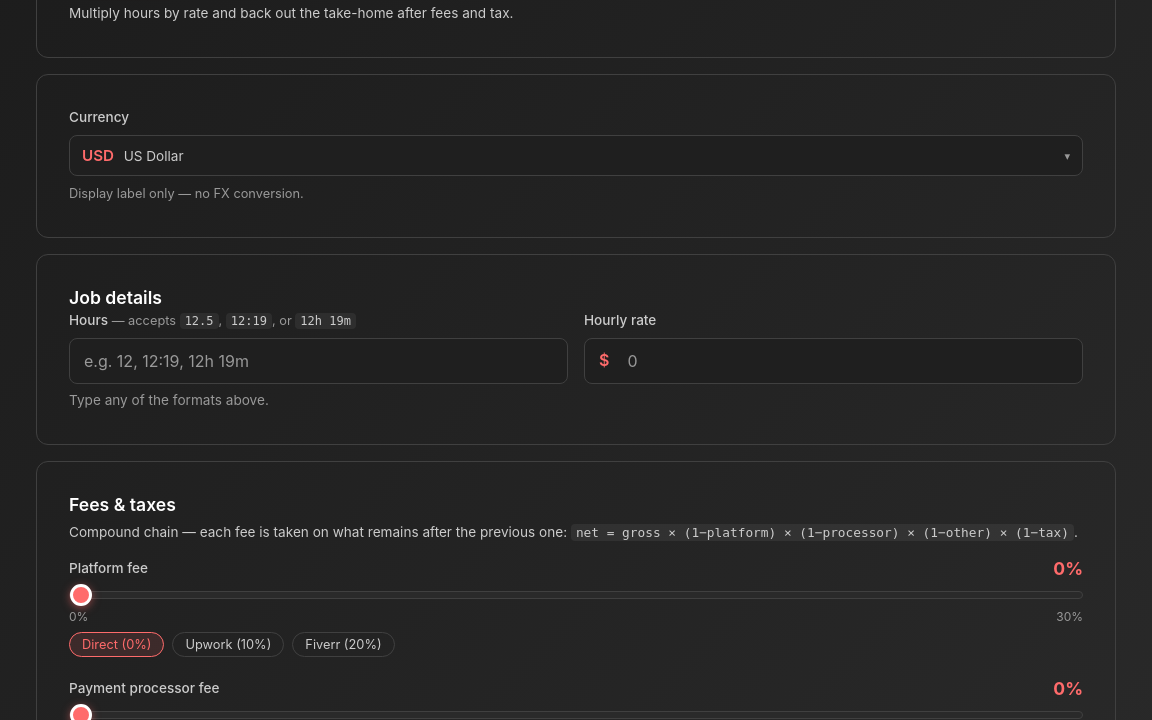
Test: <FreelanceRateCalculator /> — Quote mode › applies the compound fee chain (10 × $100, 10% platform + 25% tax)
The image size is (1152, 720).
(page scrolled)
Type "10" into the field labelled "Hours — accepts 12.5, 12:19, or 12h 19m" at x=318, y=361, box x1=69 y1=338 x2=568 y2=384
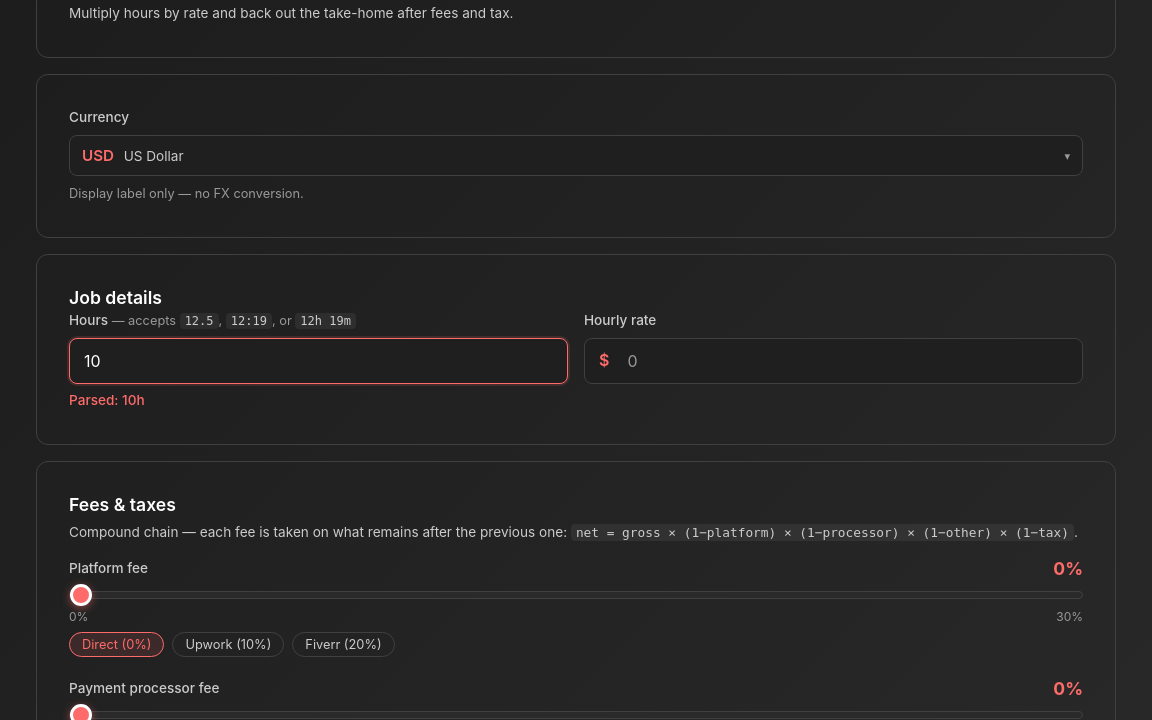
Type "100" into the number field labelled "Hourly rate" at x=848, y=361, box x1=613 y1=339 x2=1082 y2=383
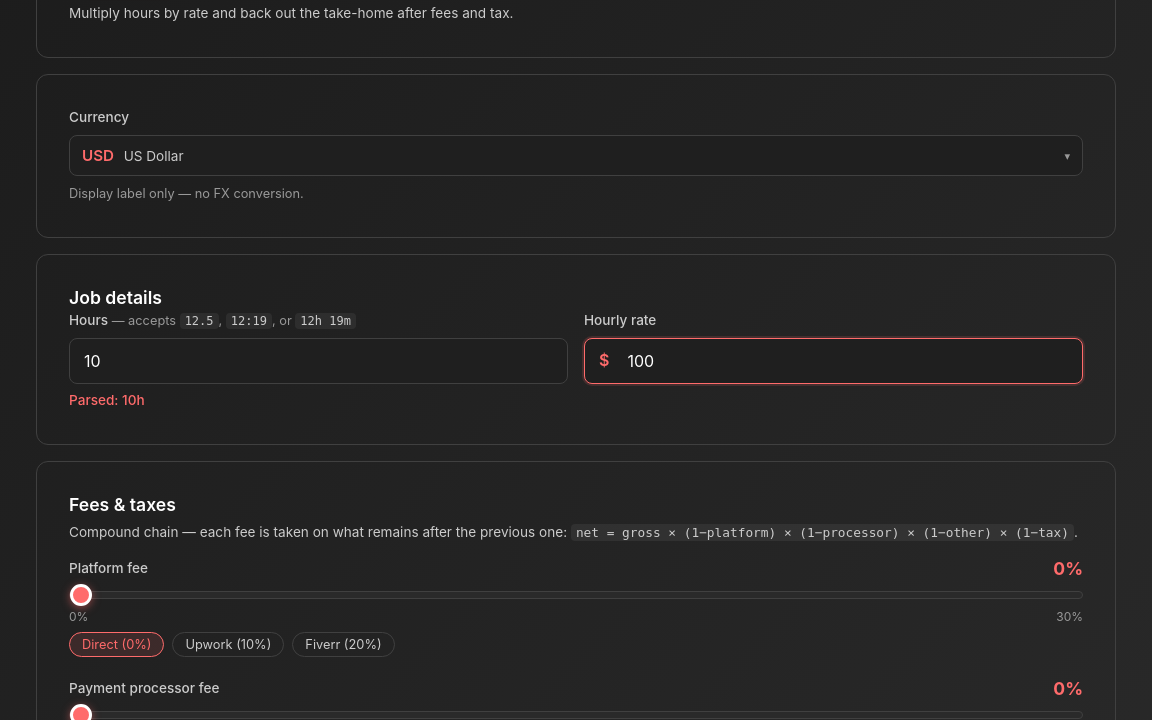
// Use Upwork preset for 10% platform fee.
Click the button "Upwork (10%)" at x=228, y=645, box x1=172 y1=632 x2=284 y2=657
(page scrolled)
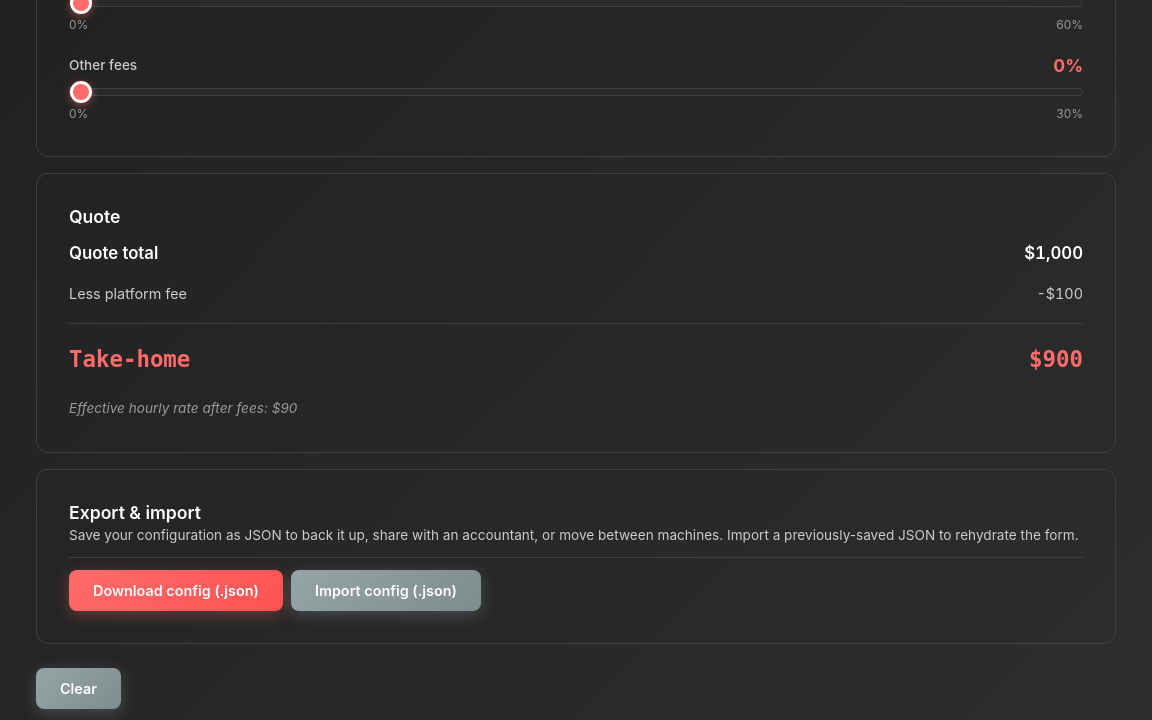
expect the text "$900" is shown: met, box x1=1029 y1=342 x2=1083 y2=378
